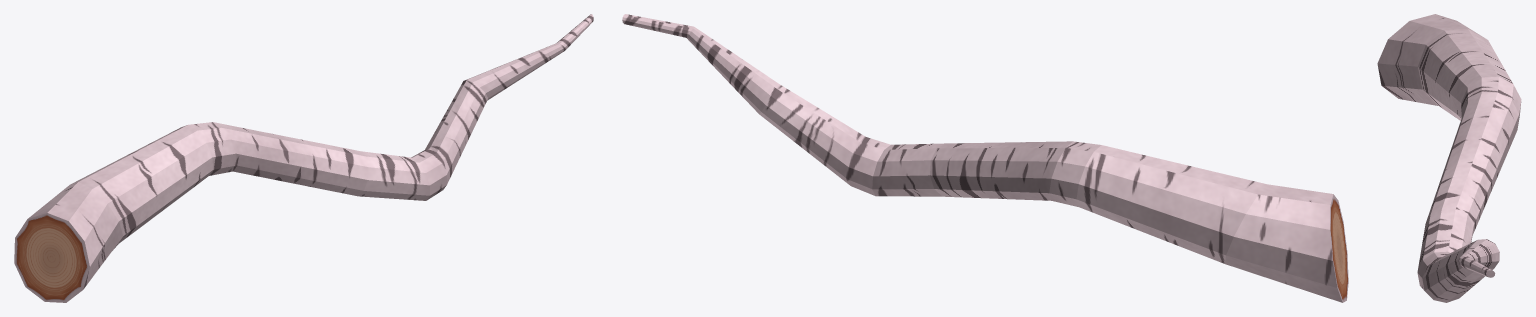
File: Stick.fbx
The picture shows the model from 3 angles, left to right: view 1: azimuth 30°, elevation 25°; view 2: azimuth 150°, elevation 25°; view 3: azimuth 270°, elevation 25°; orthographic projection. The views are drawn at different scales.
Visible parts, largest first — view 1: Stick; view 2: Stick; view 3: Stick.
Part boxes in pixels (x1,y1,x2,y2): Stick: (14, 14, 593, 302); Stick: (622, 14, 1348, 302); Stick: (1377, 14, 1521, 302).
Bounding box in the file's own units: 91.74 × 18.33 × 18.01.
